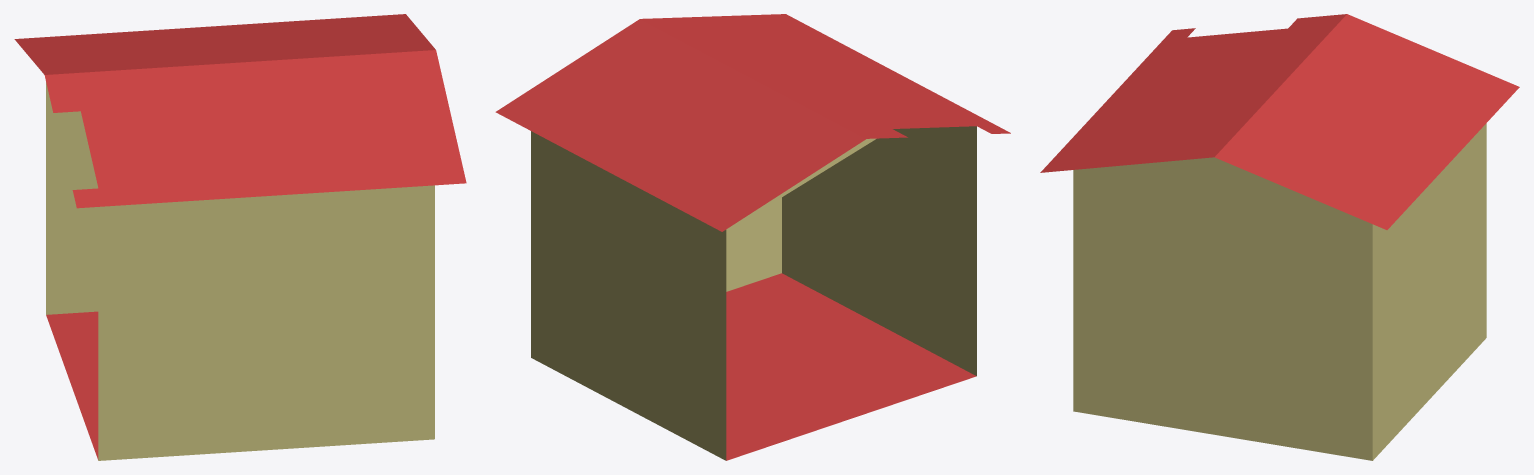
3 views of the same model, side by side, from view 1: azimuth 30°, elevation 25°; view 2: azimuth 150°, elevation 25°; view 3: azimuth 270°, elevation 25° (orthographic). The views are drawn at different scales.
Size of the model in its own units: 13.88 by 14.07 by 9.35.
